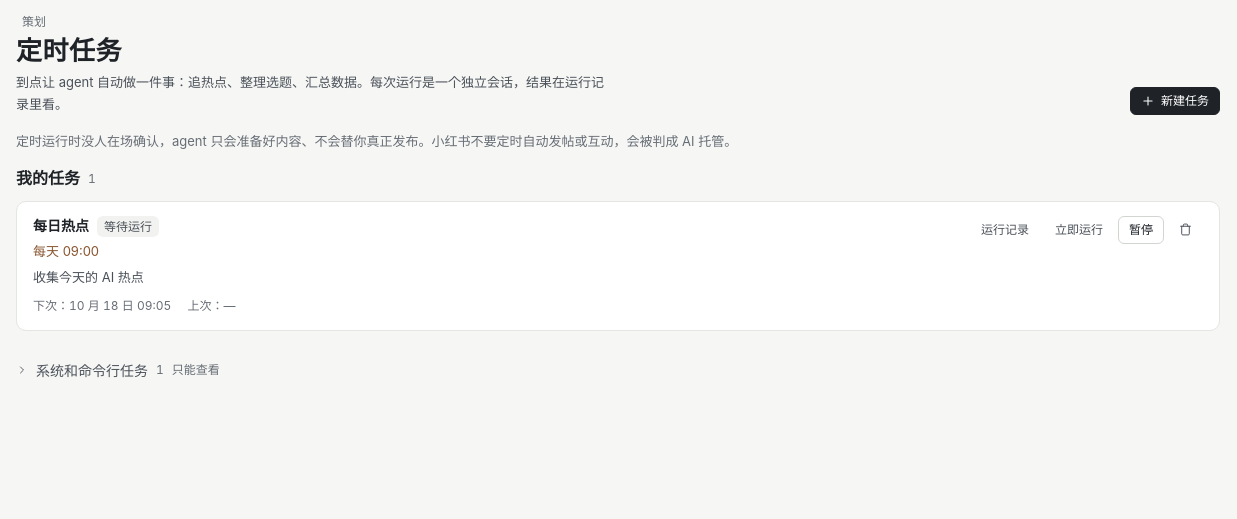
it: CronPage › 列出我的任务（中文时间），系统任务折叠且只能看
The width and height of the screenshot is (1237, 519).
Expected: the heading "每日热点" is shown, [33, 218, 89, 235]
Expected: the text "每天 09:00" is shown, [33, 243, 99, 259]
Click the button "系统和命令行任务 1 只能查看" at (118, 370), box [16, 355, 220, 386]
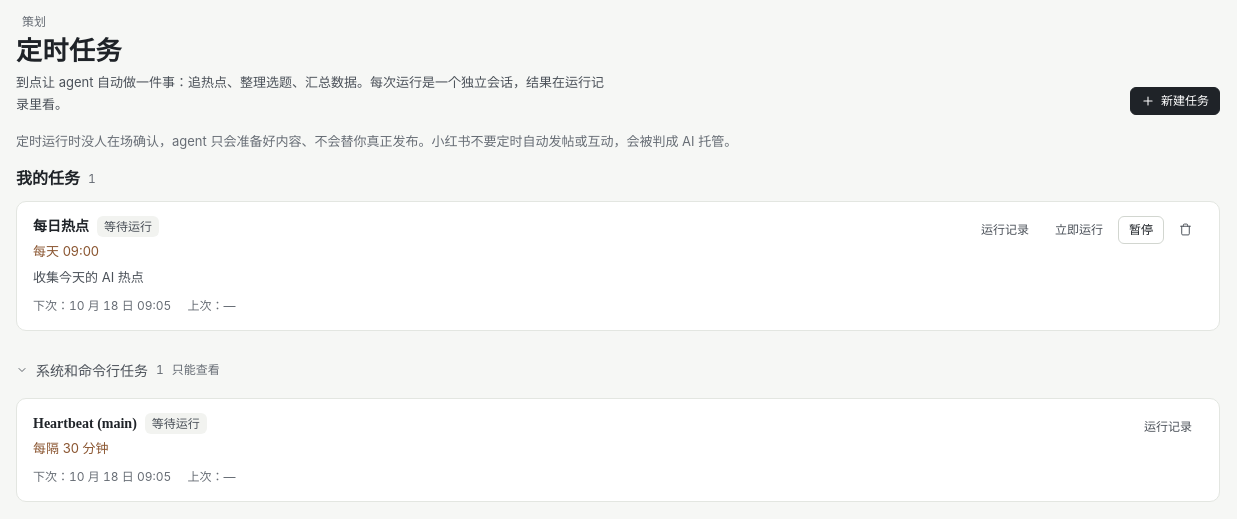
Expected: the number of buttons "暂停" is 1, [1118, 216, 1164, 244]
Now the heading "Heartbeat (main)" is shown, box [33, 415, 137, 432]
Now the number of buttons "运行记录" is 2, box [970, 216, 1040, 244]; [1133, 413, 1203, 441]
